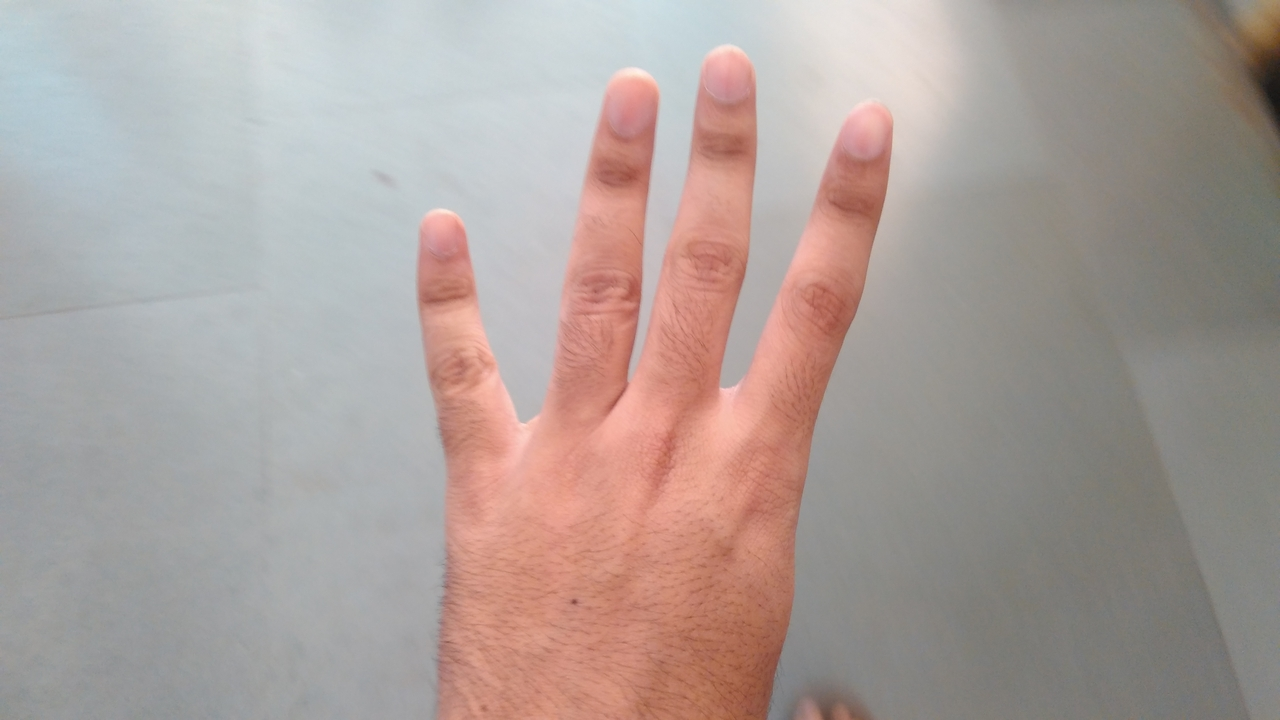fingertip: (696, 42, 761, 118), (834, 98, 902, 160), (410, 198, 472, 264), (594, 64, 658, 126)
